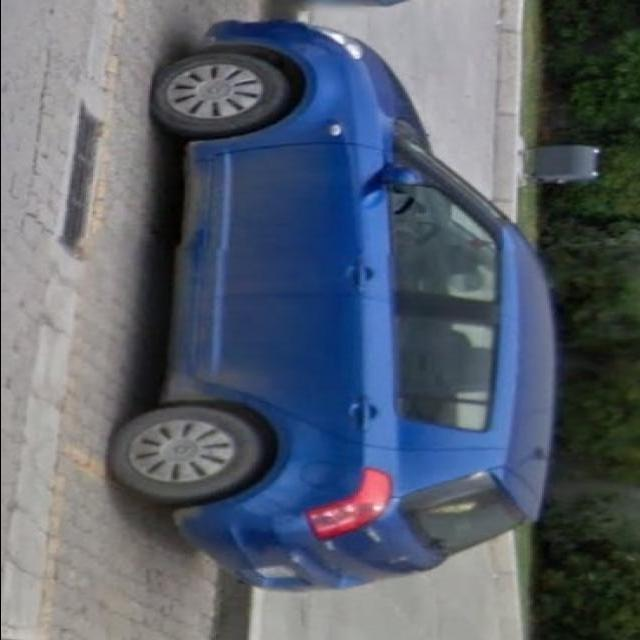car: (116, 29, 555, 592)
